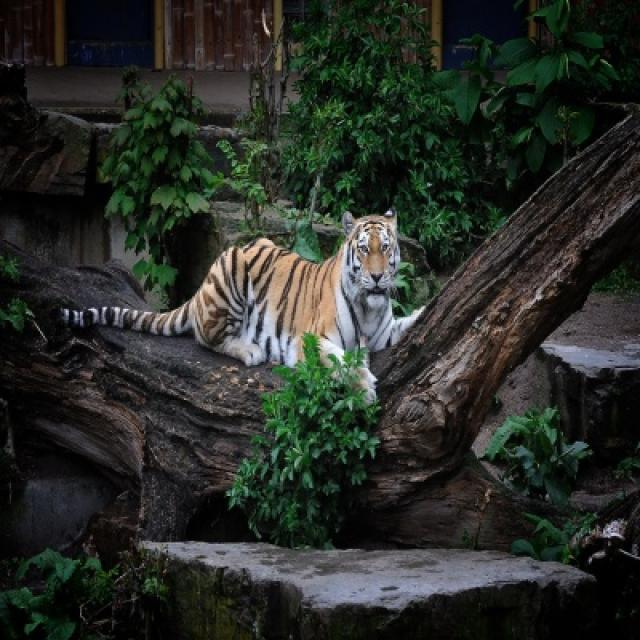Tiger: (61, 208, 424, 365)
